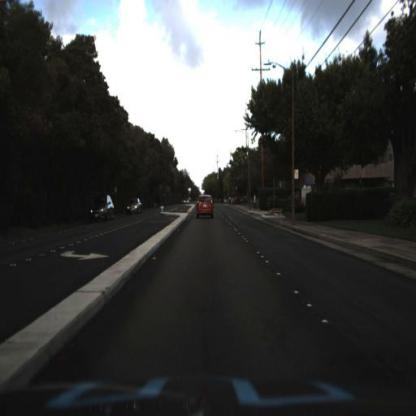car: (88, 193, 116, 223), (196, 193, 216, 220), (124, 197, 143, 220), (127, 196, 145, 216)
pedestrian: (254, 194, 258, 212)
